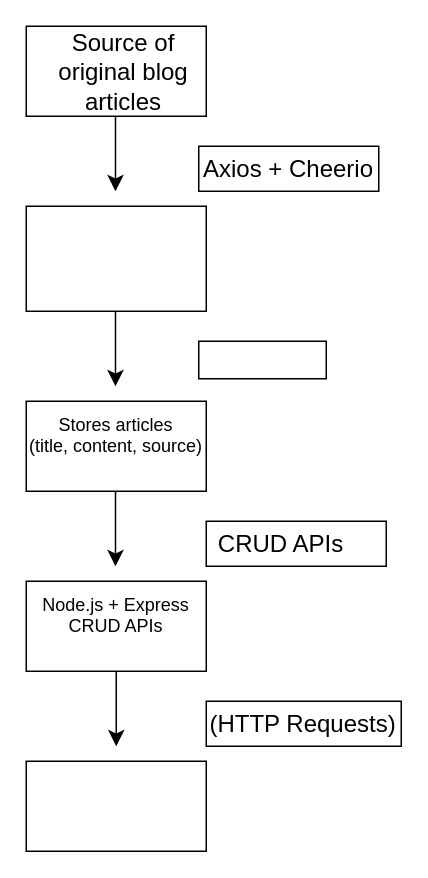
The diagram is 428 pixels wide and 878 high, and some of its shapes have lost their labels. The centre of each missing label's shape, as x and y in pixels:
INSERT: (261,359)
Node.js script Axios + Cheerio Extracts oldest 5 articles: (115,258)
React.js UI Displays articles: (115,805)
